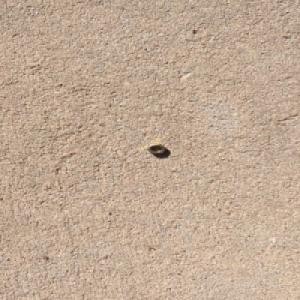Nut: (146, 142, 168, 155)
